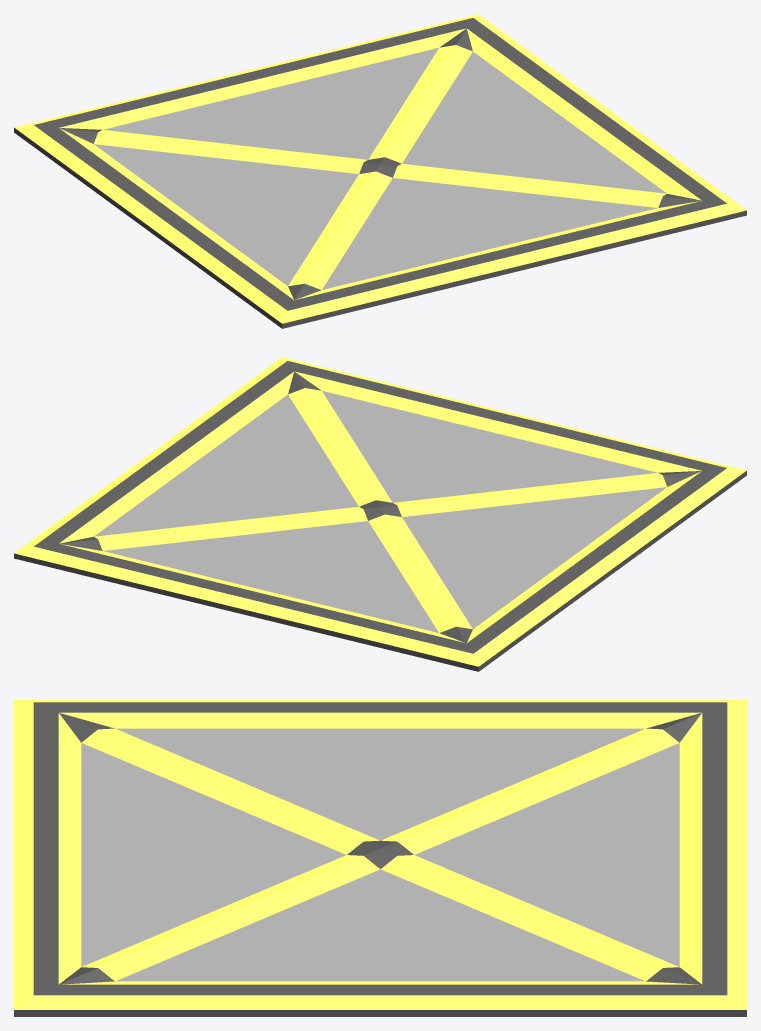
File: lightx.glb
3 views of the same model, one above another, from view 1: azimuth 30°, elevation 25°; view 2: azimuth 150°, elevation 25°; view 3: azimuth 270°, elevation 25° (orthographic). The views are drawn at different scales.
Visible parts, largest first — view 1: Cube.004; view 2: Cube.004; view 3: Cube.004.
Boxes of the visible parts, left/top/right/bottom form: Cube.004: left=14, top=14, right=746, bottom=328; Cube.004: left=14, top=357, right=746, bottom=671; Cube.004: left=14, top=700, right=746, bottom=1016.
Size of the model in its own units: 2 by 0.04 by 2.
